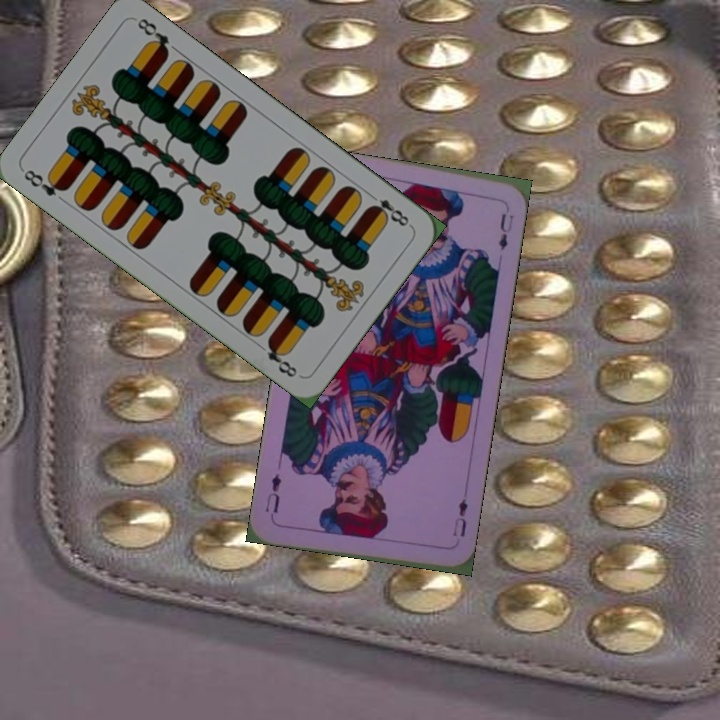E8: (364, 188, 414, 230), (19, 165, 71, 199)
EU: (449, 494, 471, 540)
